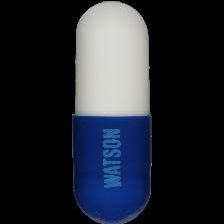54868-5162: (0, 0, 224, 224)
